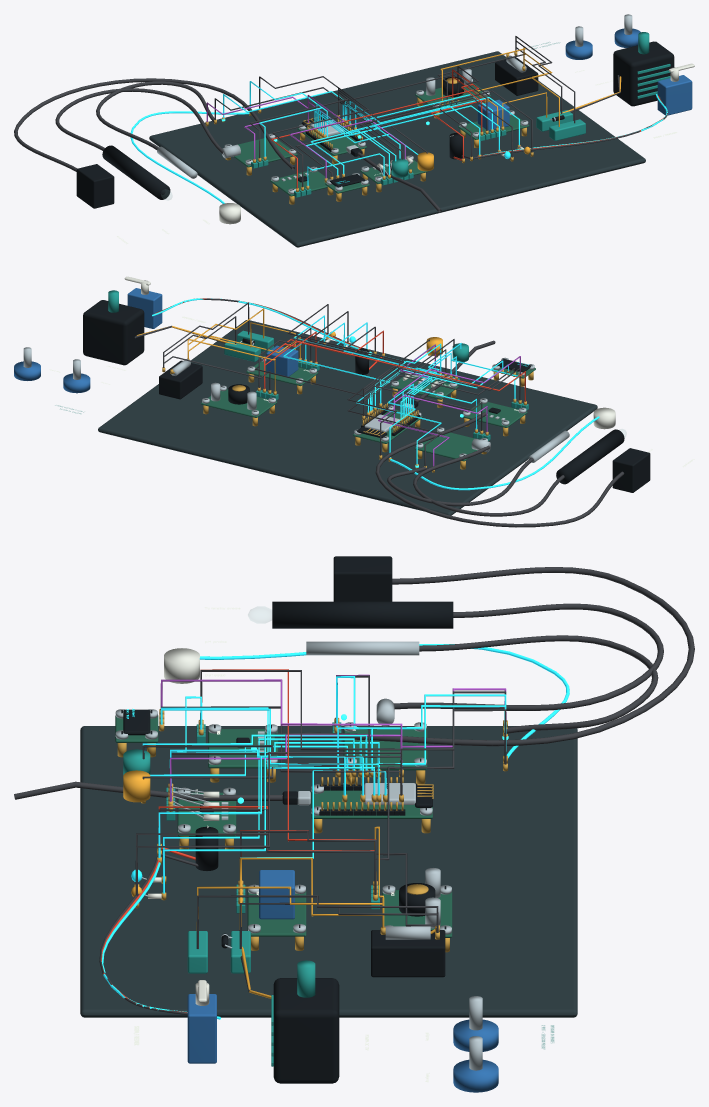
Rendered from rangkaian.glb.
3 views of the same model, one above another, from view 1: azimuth 30°, elevation 25°; view 2: azimuth 150°, elevation 25°; view 3: azimuth 270°, elevation 25° (orthographic). The views are drawn at different scales.
Visible parts, largest first — view 1: Static.001; view 2: Static.001; view 3: Static.001.
Boxes of the visible parts, x1,y1,x2,y2 form: Static.001: [14, 14, 694, 247]; Static.001: [14, 276, 694, 527]; Static.001: [14, 556, 694, 1092].
Bounding box in the file's own units: 0.5089 × 0.0525 × 0.3011.
